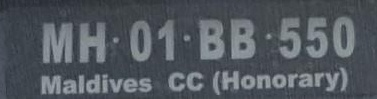character: (40, 19, 73, 65), (77, 19, 106, 64), (196, 17, 225, 60), (229, 16, 256, 60), (126, 18, 152, 62), (330, 15, 356, 57), (304, 15, 329, 58), (277, 16, 301, 60), (157, 17, 175, 62), (39, 71, 62, 96), (219, 69, 240, 91), (166, 69, 185, 92), (184, 70, 203, 92)
